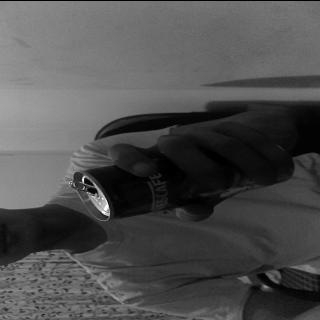alumunium_can: (68, 138, 298, 220)
